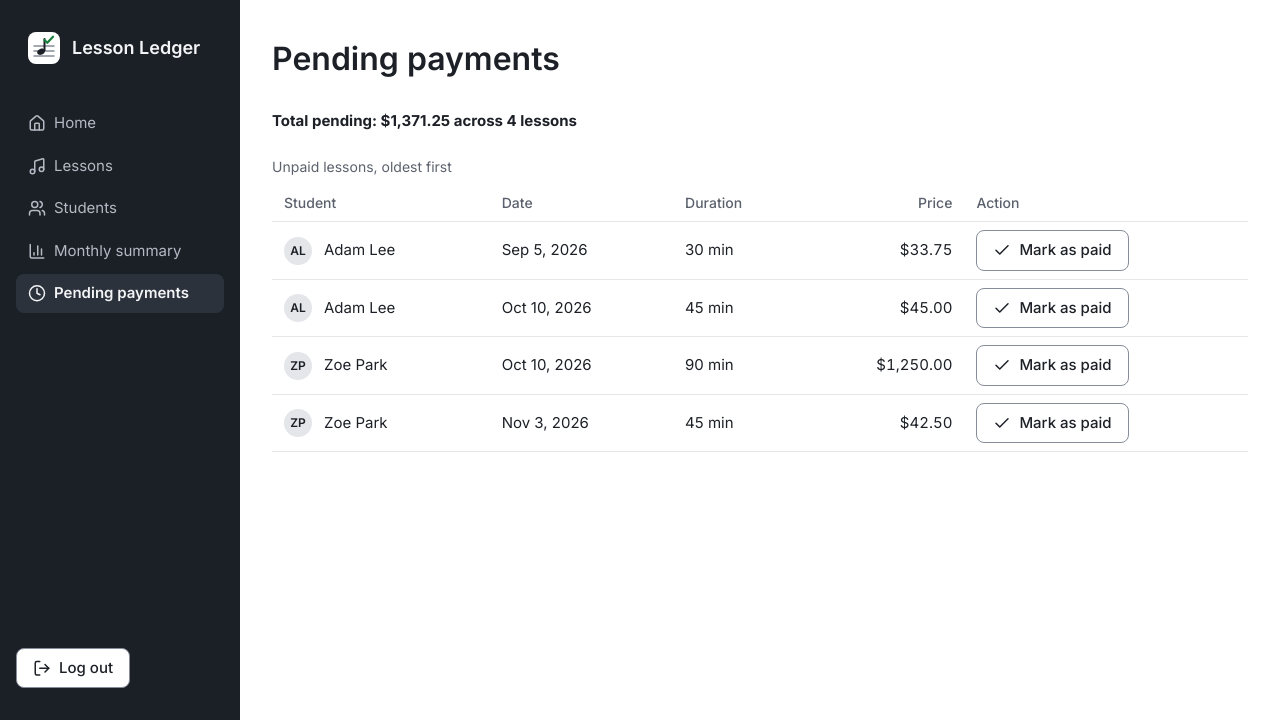
Test: AC-3 mark as paid on /pending › removes the row, updates the total, announces it and focuses the next row
This screenshot has width=1280, height=720.
Expected: the table is shown, [272,157,1248,452]
What coordinates should you click on to do the following:
click the button with aria-label "Mark as paid: Adam Lee, Oct 10, 2026"
I would click on:
 (1052, 308)
Its box is [976,288,1129,328].
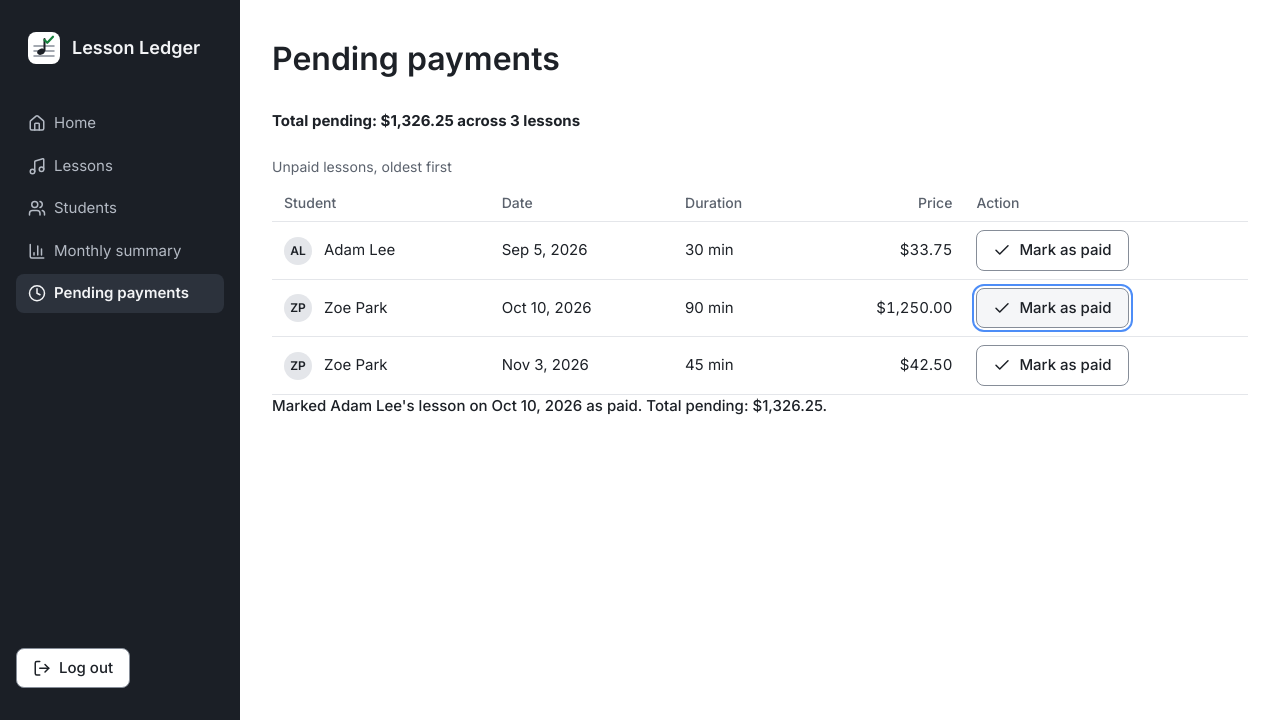
Expected: the text "Total pending: $1,326.25 across 3 lessons" is shown, [272,111,580,130]
Expected: the message reads "Marked Adam Lee's lesson on Oct 10, 2026 as paid. Total pending: $1,326.25.", [272,396,827,415]
